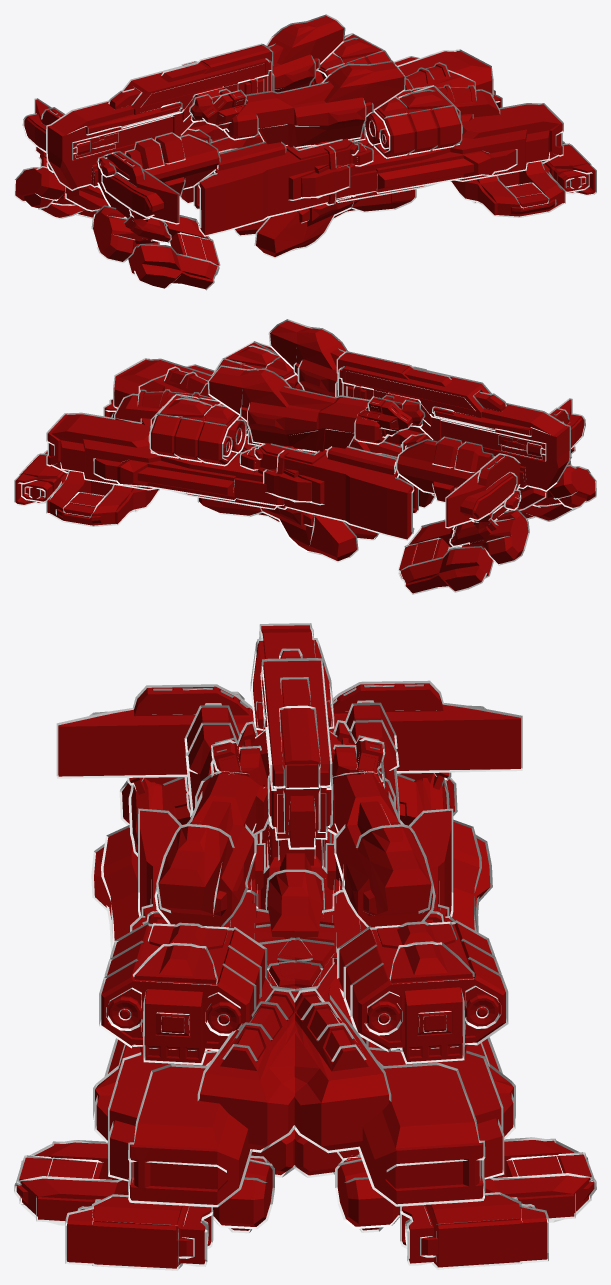
File: ship15_red.glb
The picture shows the model from 3 angles, top to bottom: view 1: azimuth 30°, elevation 25°; view 2: azimuth 150°, elevation 25°; view 3: azimuth 270°, elevation 25°; orthographic projection. The views are drawn at different scales.
Visible parts, largest first — view 1: ME_ship_IndexedFaceSet, ME_ship_IndexedFaceSet.001, ME_ship_IndexedFaceSet.002; view 2: ME_ship_IndexedFaceSet, ME_ship_IndexedFaceSet.001, ME_ship_IndexedFaceSet.002; view 3: ME_ship_IndexedFaceSet.002, ME_ship_IndexedFaceSet.001, ME_ship_IndexedFaceSet.
Boxes of the visible parts, x1,y1,x2,y2 form: ME_ship_IndexedFaceSet: (14,43,274,290); ME_ship_IndexedFaceSet.001: (180,14,500,258); ME_ship_IndexedFaceSet.002: (311,33,596,217); ME_ship_IndexedFaceSet: (335,351,596,594); ME_ship_IndexedFaceSet.001: (114,319,434,562); ME_ship_IndexedFaceSet.002: (14,341,302,526); ME_ship_IndexedFaceSet.002: (14,920,596,1270); ME_ship_IndexedFaceSet.001: (130,771,455,1177); ME_ship_IndexedFaceSet: (56,623,522,952).
Bounding box in the file's own units: 727 × 282 × 431.
